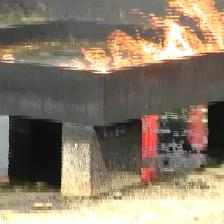fire: (59, 0, 224, 70)
